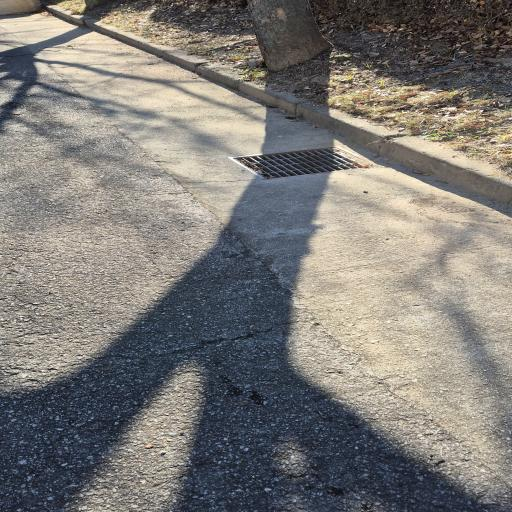drain: (231, 147, 365, 179)
